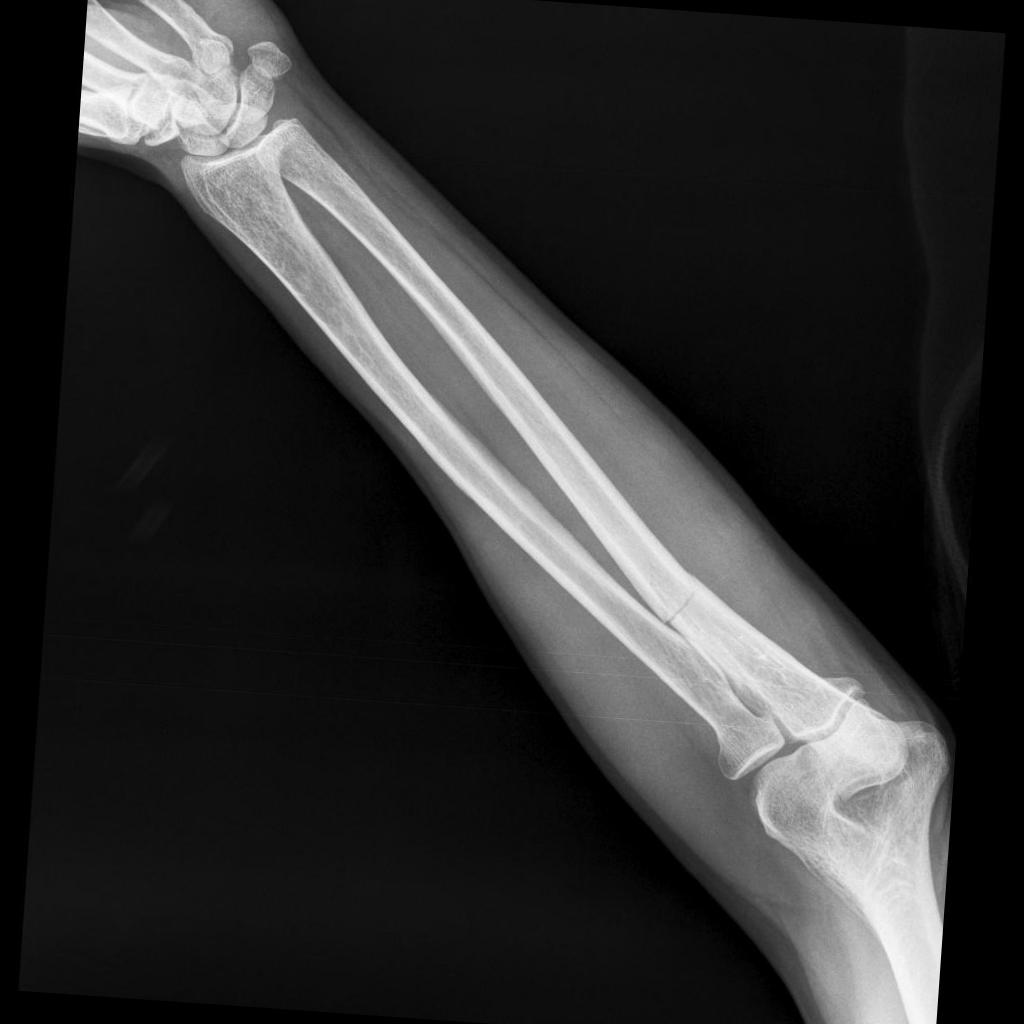line: (662, 572, 702, 630)
